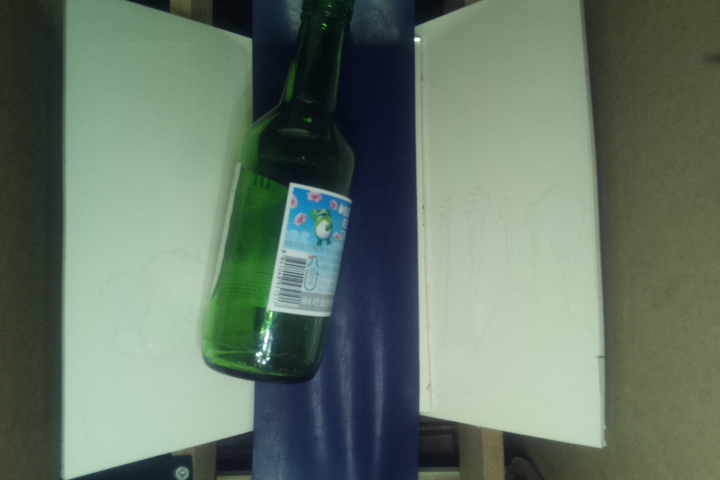soju: (201, 1, 357, 383)
